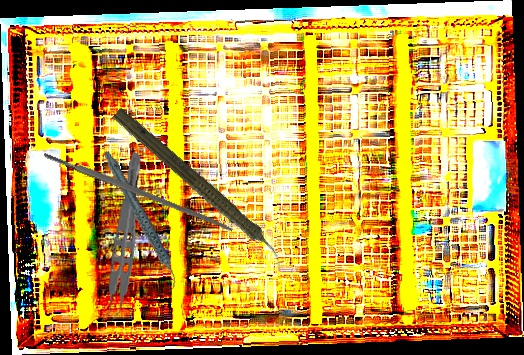Handpiece: (106, 104, 295, 274), (102, 142, 179, 298)
Scalpel Handle: (42, 149, 235, 234)
Tissue Forceps: (98, 150, 145, 324)
